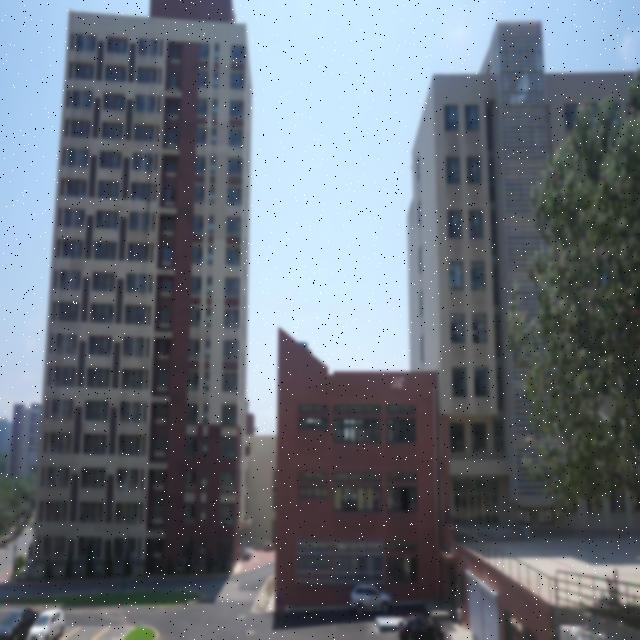UAV: (391, 376, 405, 390)
